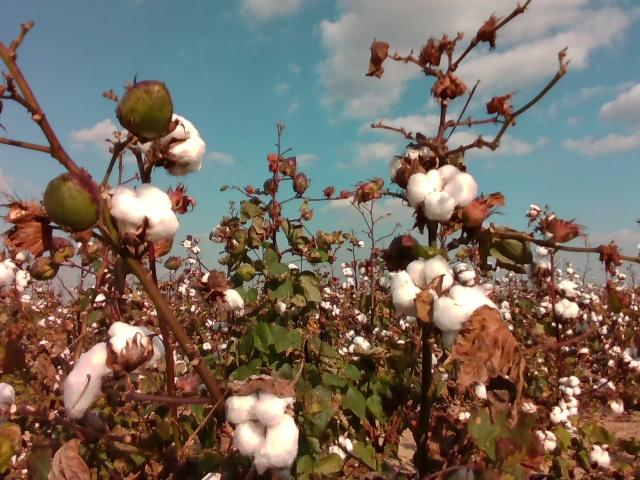cotton_ready: (63, 322, 166, 418), (391, 258, 497, 328), (225, 394, 299, 475), (134, 114, 207, 175), (109, 185, 181, 244), (406, 164, 477, 220), (389, 145, 440, 181), (217, 288, 245, 317)
